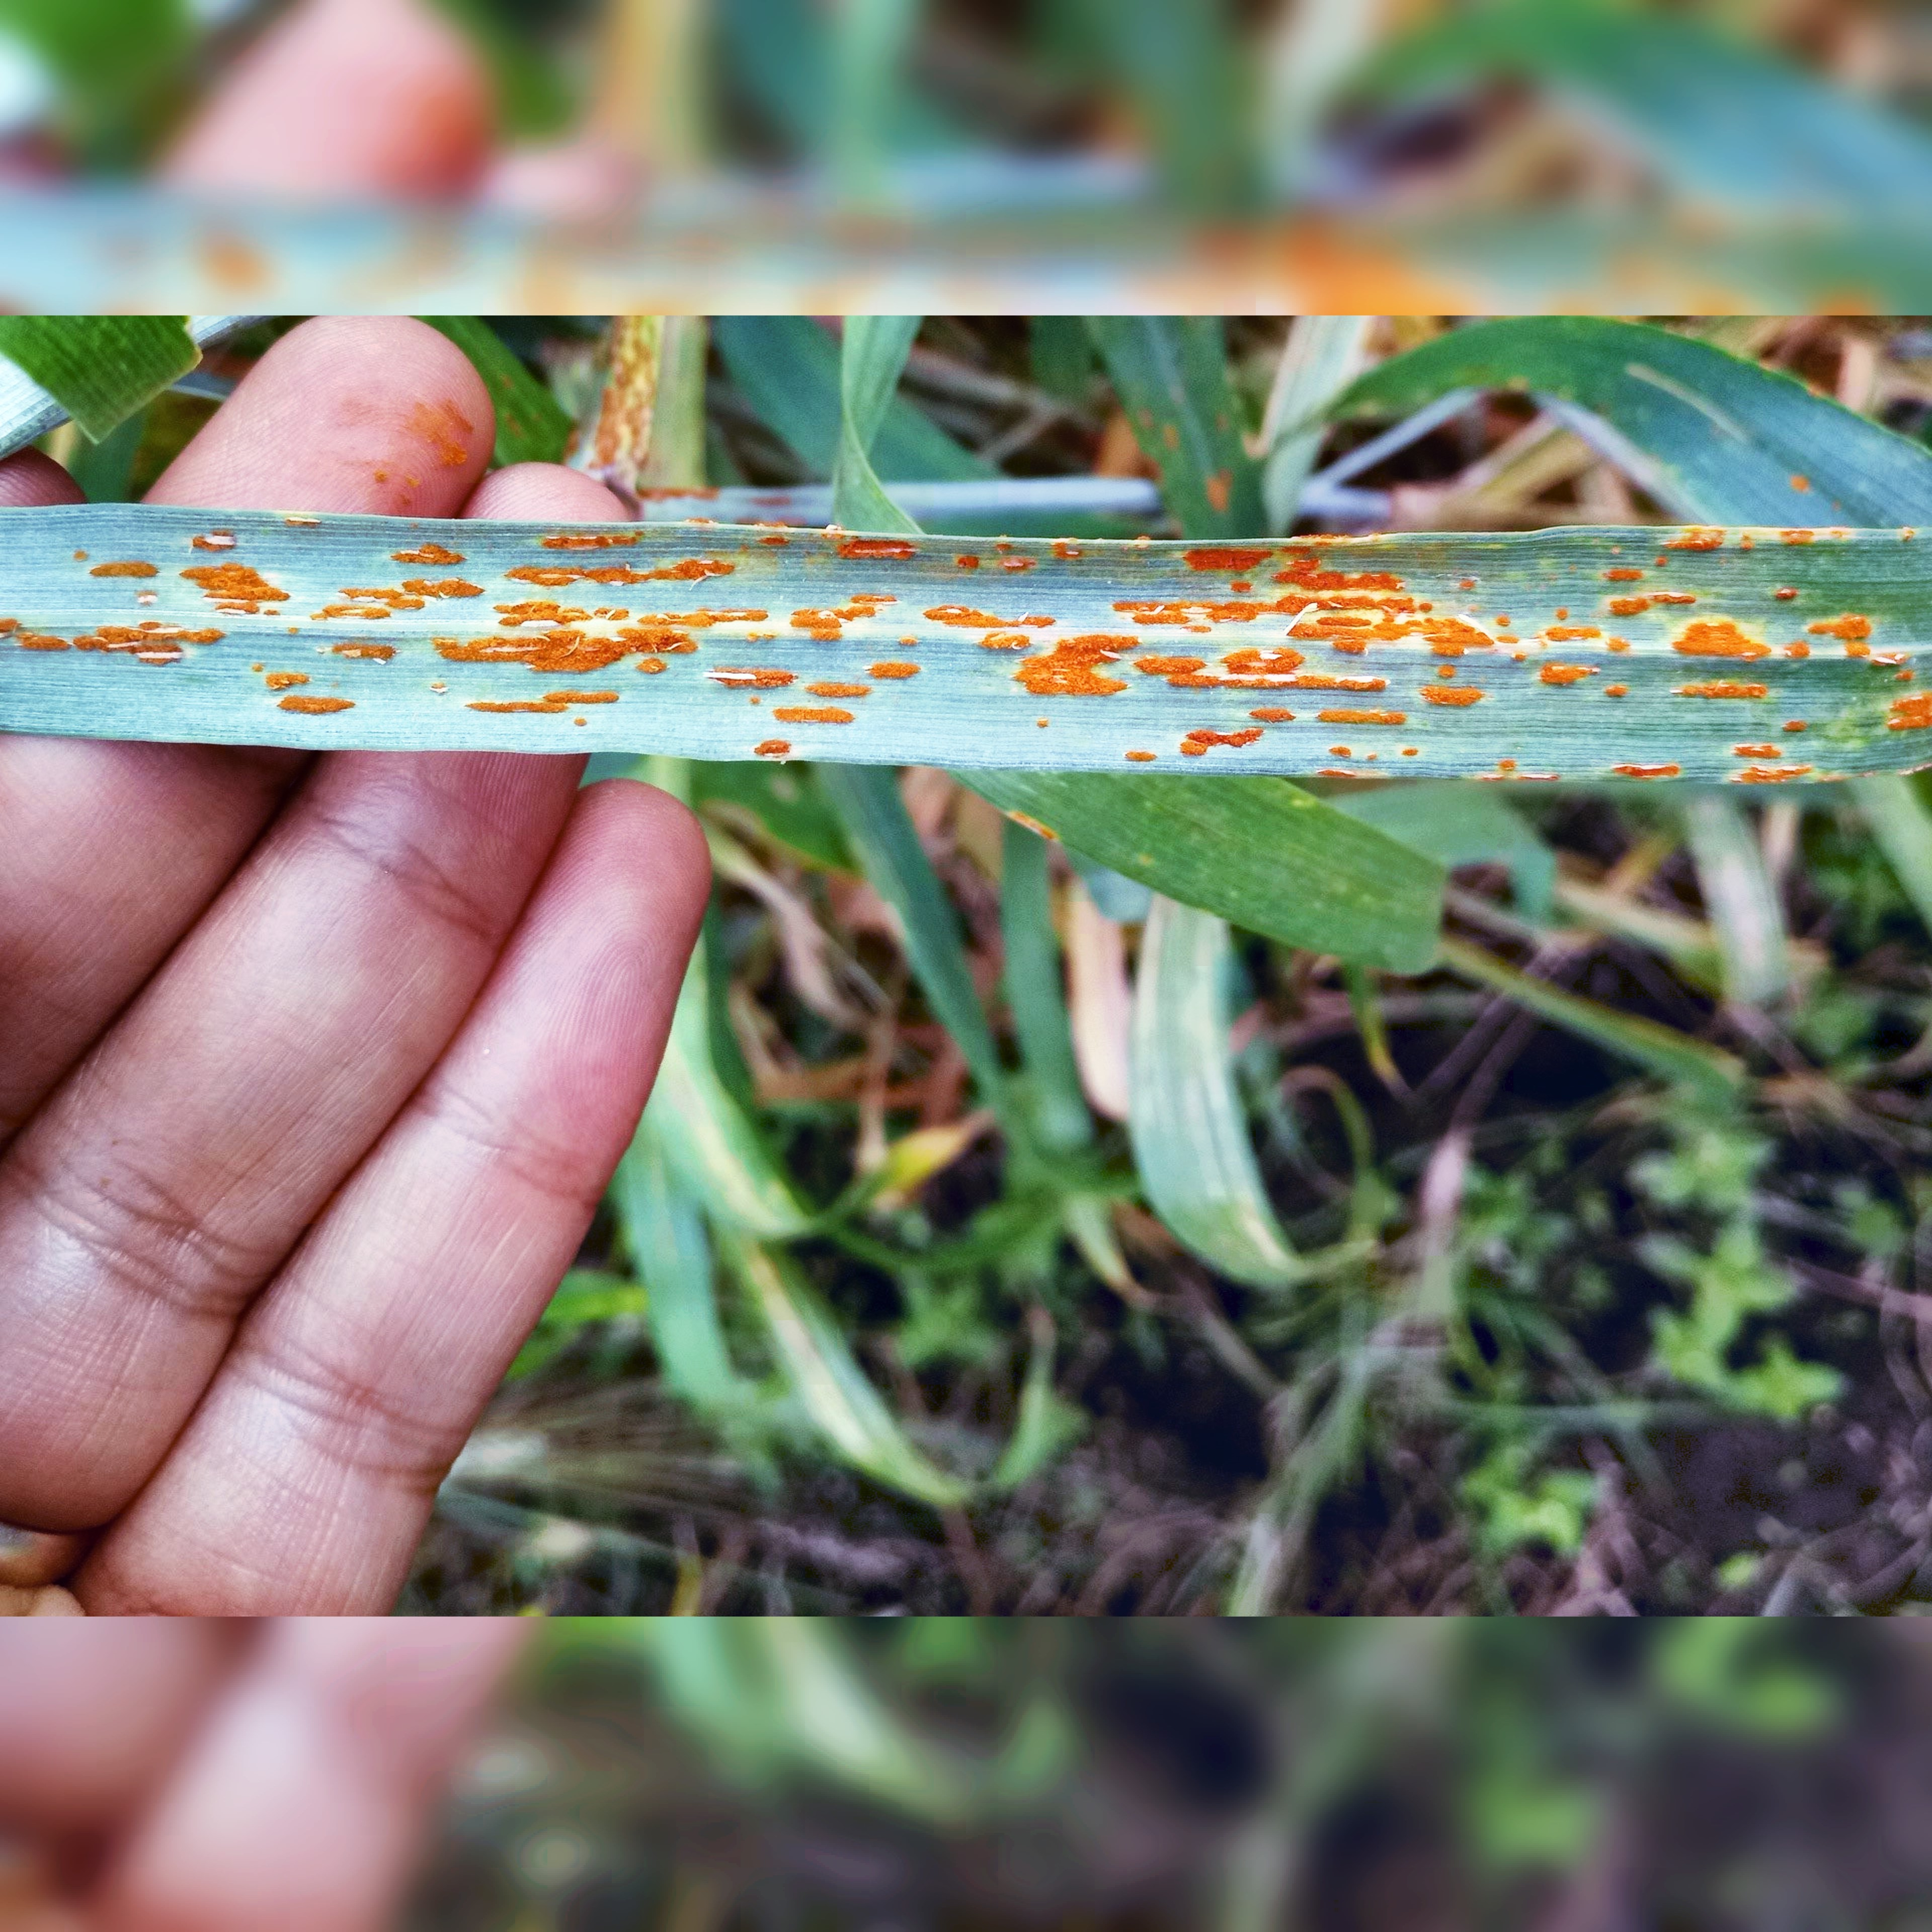Leaf Rust: (78, 467, 1932, 812)
